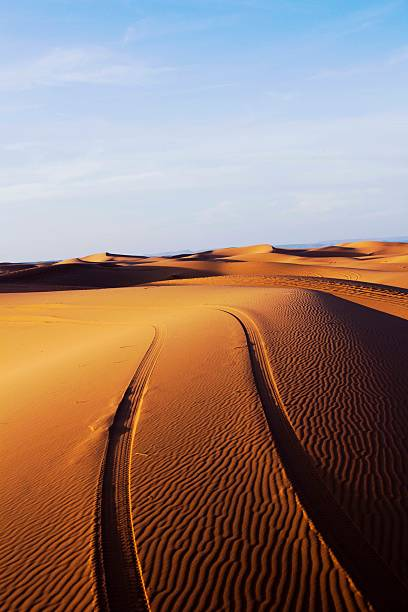vehicle_track: (219, 307, 407, 611), (94, 327, 163, 611)
